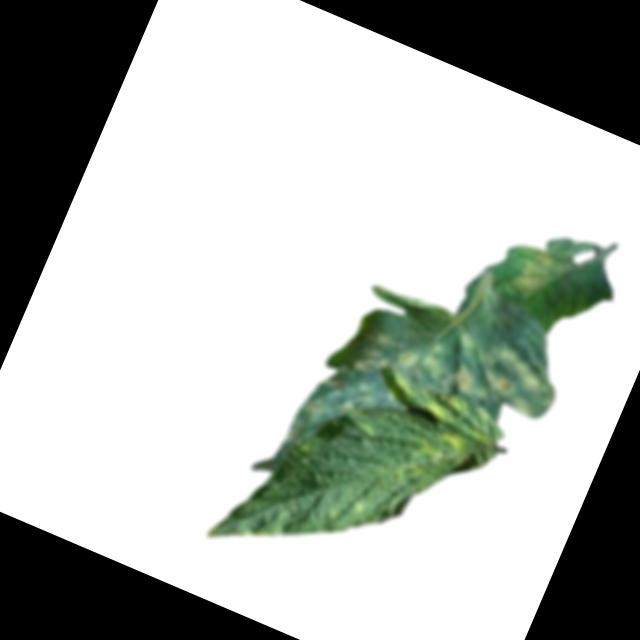Leaf_Mold: (349, 295, 568, 445), (392, 396, 506, 509), (507, 244, 574, 310)
